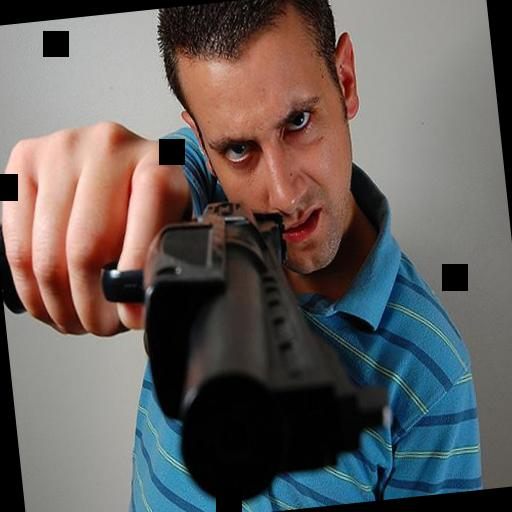Handgun: (0, 174, 387, 512)
